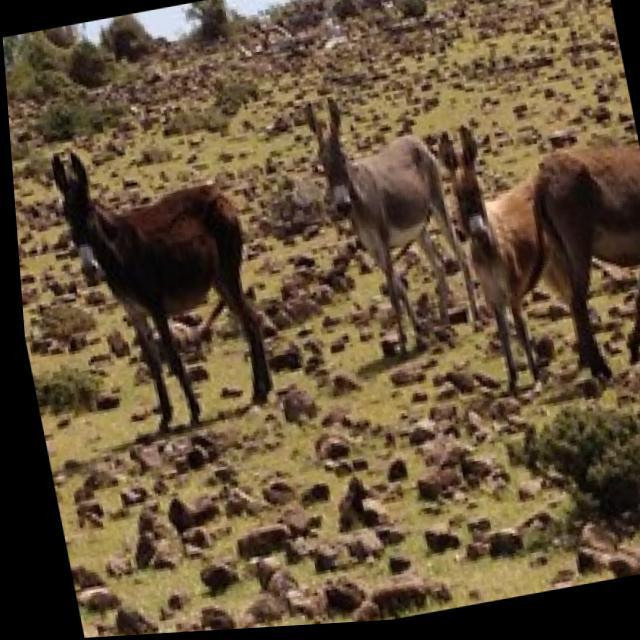Donkey: (14, 85, 323, 496), (274, 77, 488, 390), (411, 90, 600, 408), (494, 75, 640, 426)
